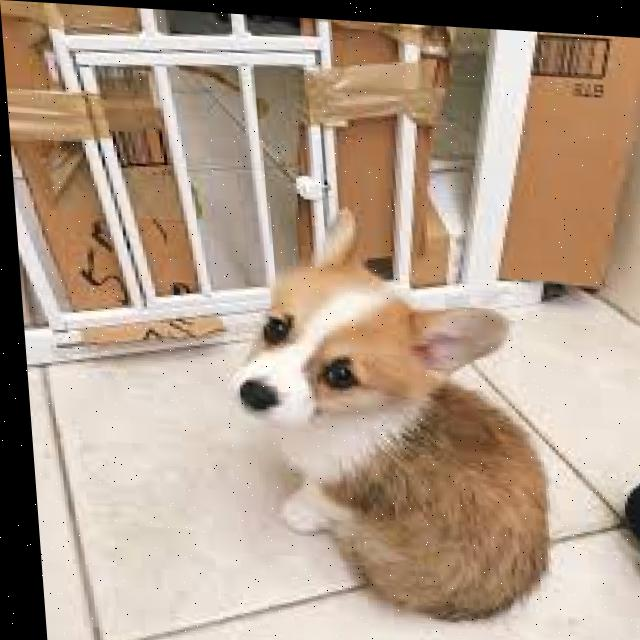CORGI: (210, 190, 578, 634)
